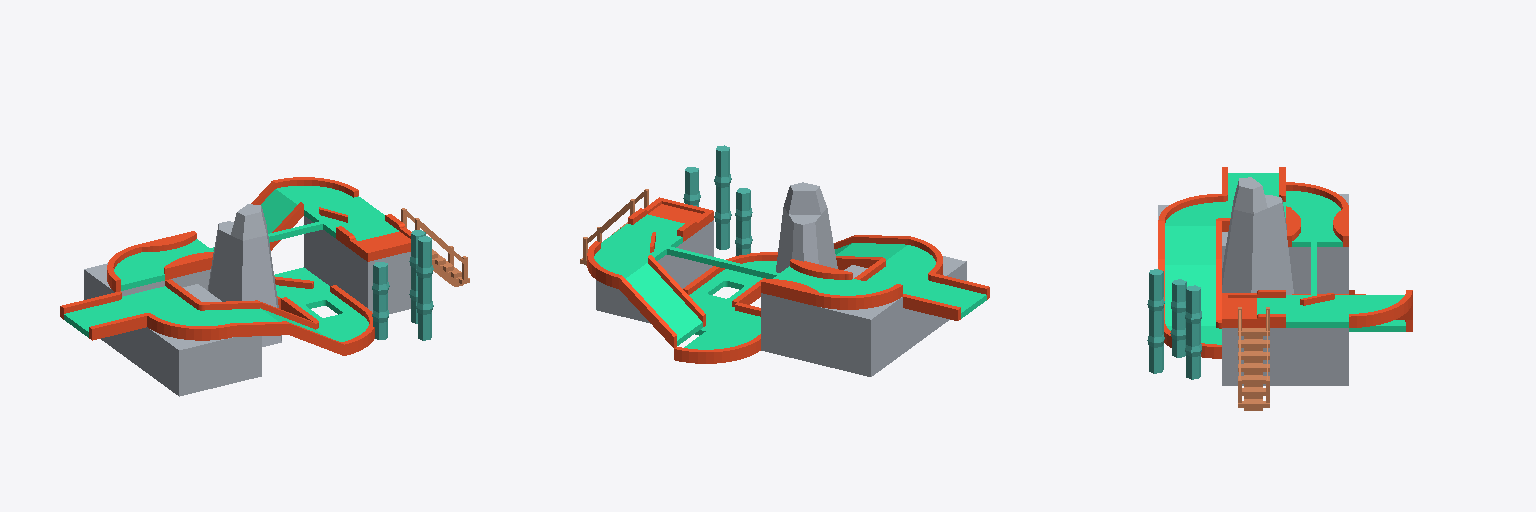
File: PH_Lighthouse_Course_Part1.obj
3 views of the same model, side by side, from view 1: azimuth 30°, elevation 25°; view 2: azimuth 150°, elevation 25°; view 3: azimuth 270°, elevation 25° (orthographic).
Bounding box in the file's own units: 7 × 2.17 × 4.17.